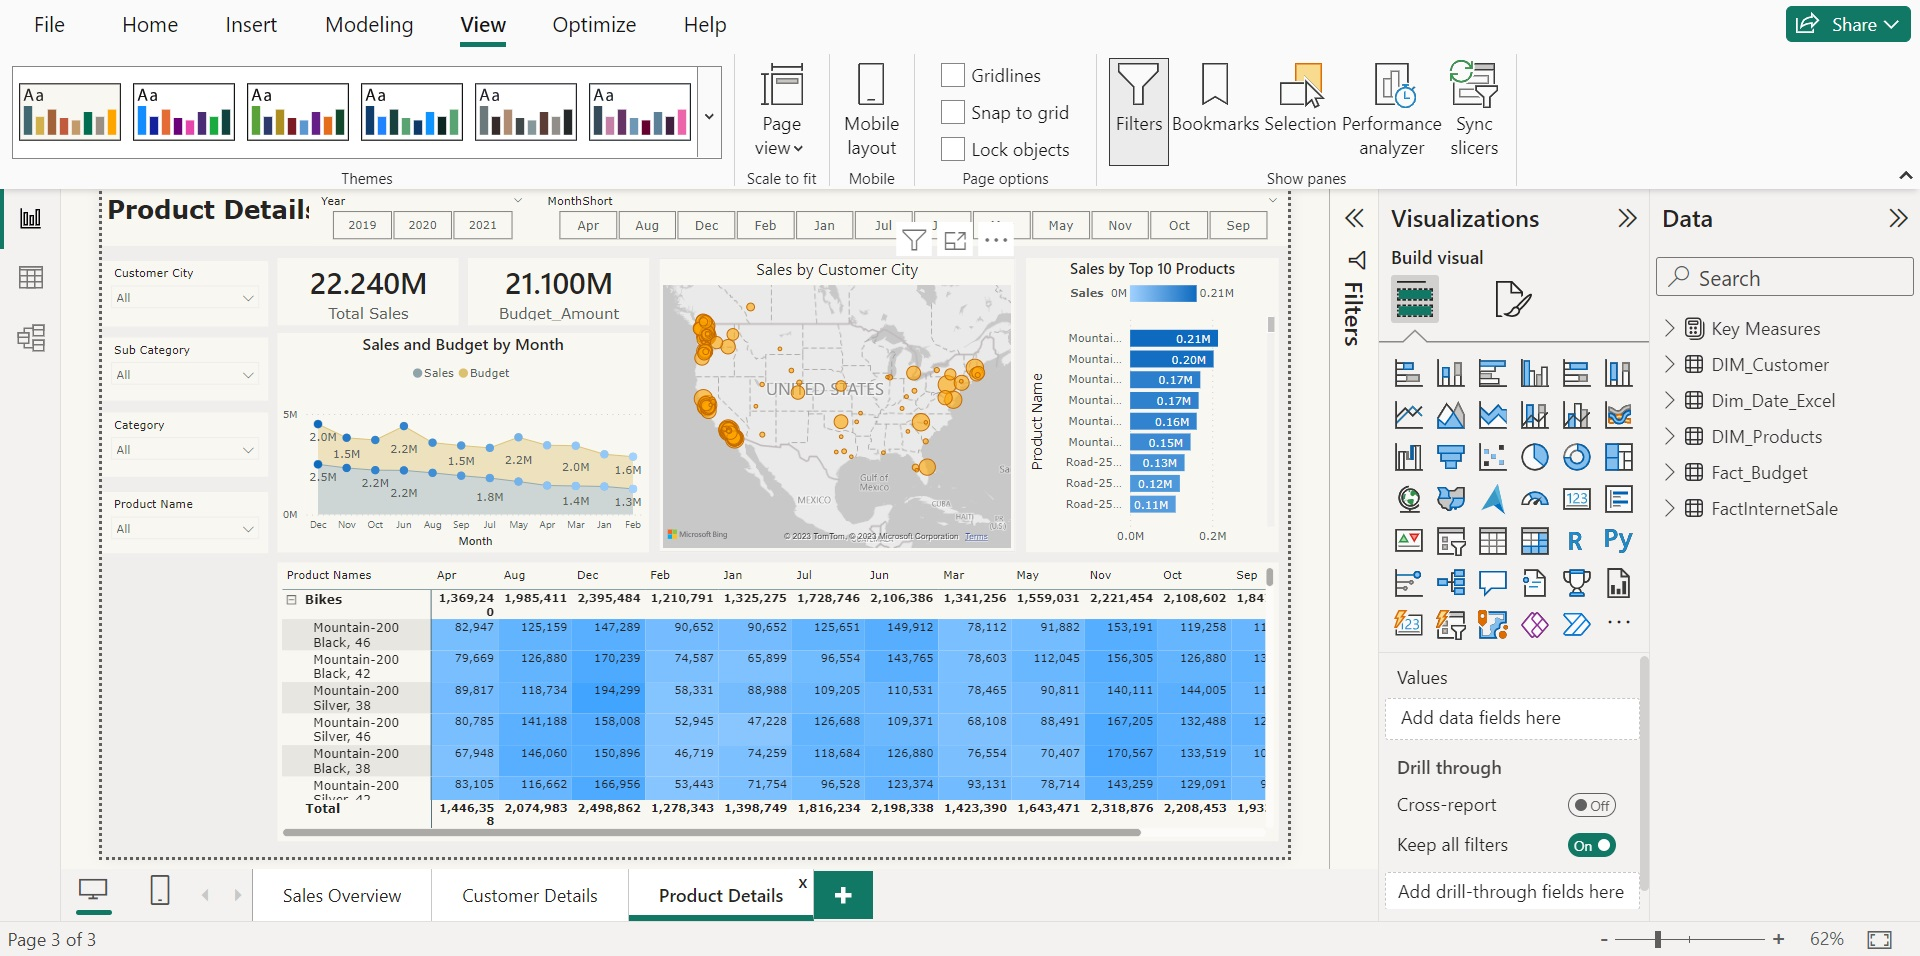

This screenshot's page, from the dashboard's own definition file:
{"tool":"powerbi","page":{"name":"Product Details","canvas":[1280,720],"ordinal":2},"visuals":[{"type":"textbox","box":[0,0,1280,61.1],"z":0},{"type":"slicer","fields":{"Values":["DIM_Customer.Customer City"]},"box":[0,77.8,179.6,70.6],"z":1000},{"type":"slicer","fields":{"Values":["DIM_Products.Sub Category"]},"box":[0,160.4,179.6,68.3],"z":2000},{"type":"slicer","fields":{"Values":["DIM_Products.Product Category"]},"box":[0,241.9,179.6,69.4],"z":3000},{"type":"slicer","fields":{"Values":["DIM_Products.Product Name"]},"box":[0,326.9,179.6,65.9],"z":4000},{"type":"slicer","fields":{"Values":["Dim_Date_Excel.Year"]},"box":[223.9,0,243.1,61.1],"z":5000},{"type":"slicer","fields":{"Values":["Dim_Date_Excel.MonthShort"]},"box":[467,0,813,61.1],"z":6000},{"type":"barChart","title":"Sales by Top 10 Products","fields":{"Y":["Key Measures.Sales"],"Category":["DIM_Products.Product Name"]},"box":[996.6,74.9,272.9,317.4],"z":7000},{"type":"pivotTable","fields":{"Values":["Key Measures.Sales"],"Columns":["Dim_Date_Excel.MonthShort"],"Rows":["DIM_Products.Product Category","DIM_Products.Product Name"]},"box":[189.7,402.9,1079.7,301],"z":8000},{"type":"card","title":"Total Sales","fields":{"Values":["Key Measures.Sales"]},"box":[189.7,74.9,195.6,72.6],"z":9000},{"type":"card","title":"Total Sales","fields":{"Values":["Key Measures.Budget_Amount"]},"box":[394.7,74.9,195.6,72.6],"z":10000},{"type":"stackedAreaChart","fields":{"Category":["Dim_Date_Excel.MonthShort"],"Y":["Key Measures.Sales","Key Measures.Budget_Amount"]},"box":[189.7,155.8,400.5,236.6],"z":11000},{"type":"map","fields":{"Category":["DIM_Customer.Customer City"],"Size":["Key Measures.Sales"]},"box":[599.6,74.9,385.3,317.4],"z":12000}]}

Visuals, with their boxes on the page's 1280x720 design canvas (x1, y1, x2, y2). These are canvas units, not pixel positions in the 1920x956 screenshot, which may show the page scaled, cropped or inside an application window:
textbox: left=0, top=0, right=1280, bottom=61
slicer - DIM_Customer.Customer City: left=0, top=78, right=180, bottom=148
slicer - DIM_Products.Sub Category: left=0, top=160, right=180, bottom=229
slicer - DIM_Products.Product Category: left=0, top=242, right=180, bottom=311
slicer - DIM_Products.Product Name: left=0, top=327, right=180, bottom=393
slicer - Dim_Date_Excel.Year: left=224, top=0, right=467, bottom=61
slicer - Dim_Date_Excel.MonthShort: left=467, top=0, right=1280, bottom=61
"Sales by Top 10 Products" barChart: left=997, top=75, right=1270, bottom=392
pivotTable - Key Measures.Sales x Dim_Date_Excel.MonthShort: left=190, top=403, right=1269, bottom=704
"Total Sales" card: left=190, top=75, right=385, bottom=148
"Total Sales" card: left=395, top=75, right=590, bottom=148
stackedAreaChart - Dim_Date_Excel.MonthShort x Key Measures.Sales: left=190, top=156, right=590, bottom=392
map - DIM_Customer.Customer City x Key Measures.Sales: left=600, top=75, right=985, bottom=392
